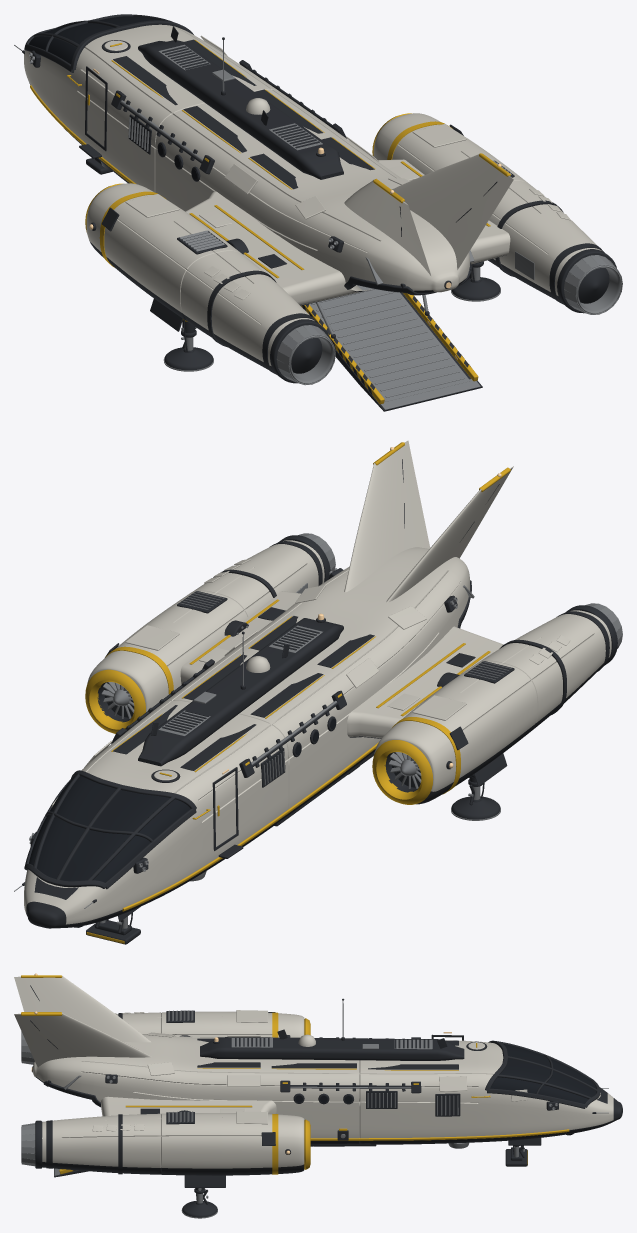
The model's file is SM_Wren.fbx.
The picture shows the model from 3 angles, top to bottom: view 1: azimuth 30°, elevation 25°; view 2: azimuth 150°, elevation 25°; view 3: azimuth 270°, elevation 25°; orthographic projection. The views are drawn at different scales.
Parts seen in each view (by area): view 1: Wren_Body, Wren_Ramp, Wren_Gear; view 2: Wren_Body, Wren_Gear; view 3: Wren_Body, Wren_Gear.
Part boxes in pixels (x1,y1,x2,y2): Wren_Body: (14, 14, 622, 385); Wren_Ramp: (301, 285, 482, 411); Wren_Gear: (86, 158, 500, 371); Wren_Body: (14, 440, 622, 928); Wren_Gear: (86, 753, 507, 944); Wren_Body: (14, 973, 622, 1175); Wren_Gear: (181, 1138, 541, 1218).
Size of the model in its own units: 11.01 by 6.72 by 22.11.
